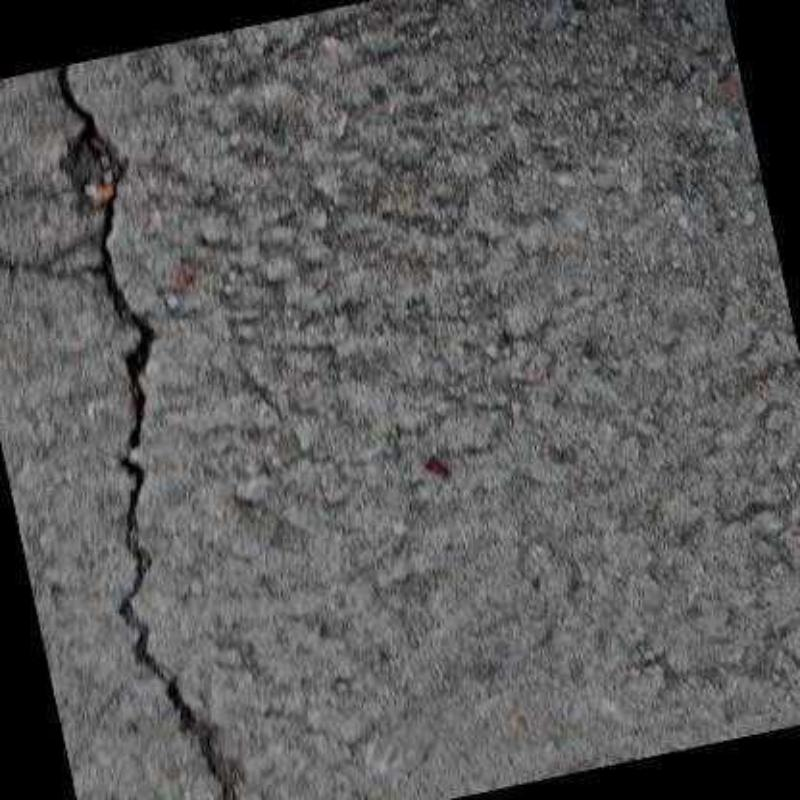pothole: (55, 64, 234, 800)
